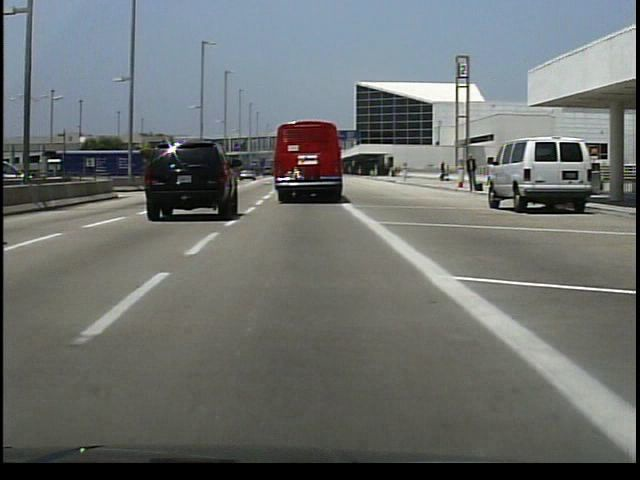person: (464, 154, 479, 198)
